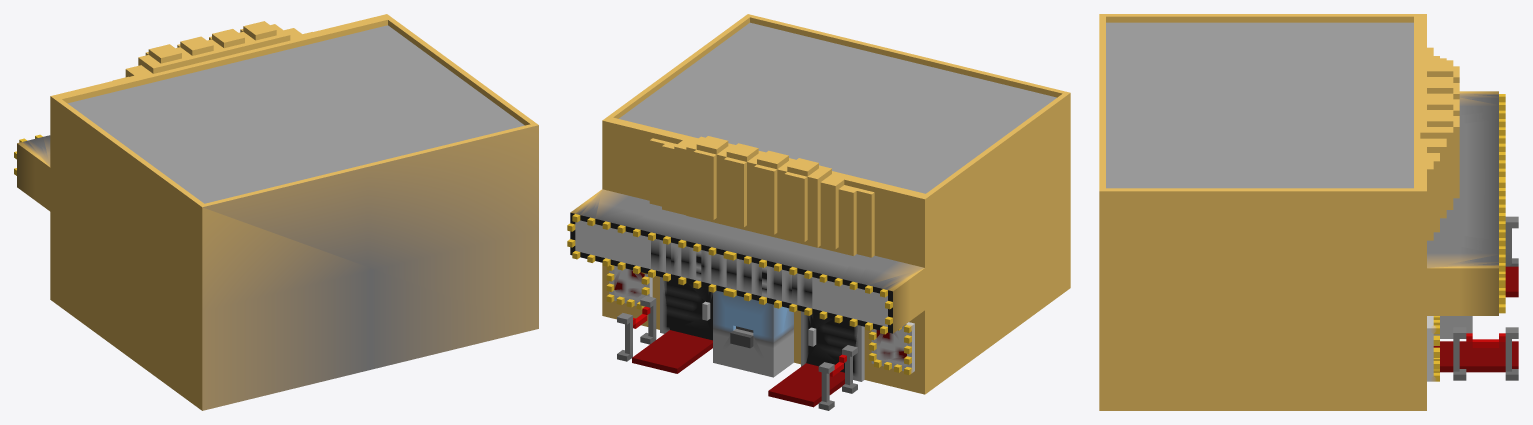
The model's file is obj_store15.fbx.
The picture shows the model from 3 angles, left to right: view 1: azimuth 30°, elevation 25°; view 2: azimuth 150°, elevation 25°; view 3: azimuth 270°, elevation 25°; orthographic projection. The views are drawn at different scales.
Visible parts, largest first — view 1: obj_store15; view 2: obj_store15; view 3: obj_store15.
Boxes of the visible parts, bbox=[...] form: obj_store15: bbox=[14, 14, 538, 410]; obj_store15: bbox=[567, 14, 1070, 410]; obj_store15: bbox=[1099, 14, 1518, 410].
Size of the model in its own units: 6.4 by 6.4 by 3.9.
1 material, 1 textured.
